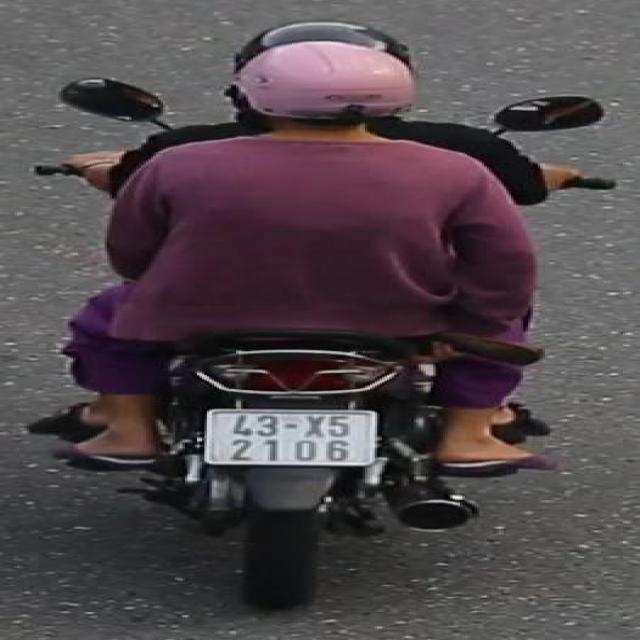LP: (202, 404, 384, 468)
helmet: (232, 42, 430, 152), (231, 15, 411, 63)
